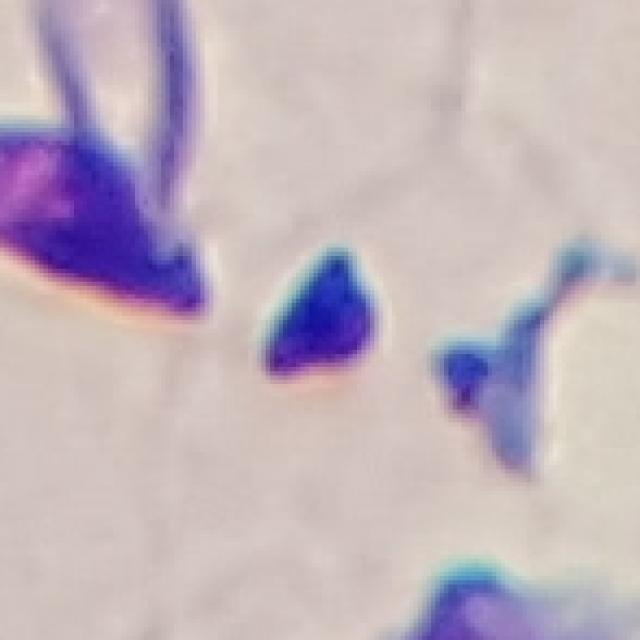non-sperm: (2, 69, 226, 348), (438, 230, 616, 450), (254, 226, 411, 392)
